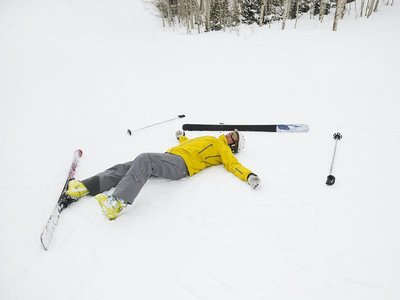fall: (51, 115, 267, 226)
